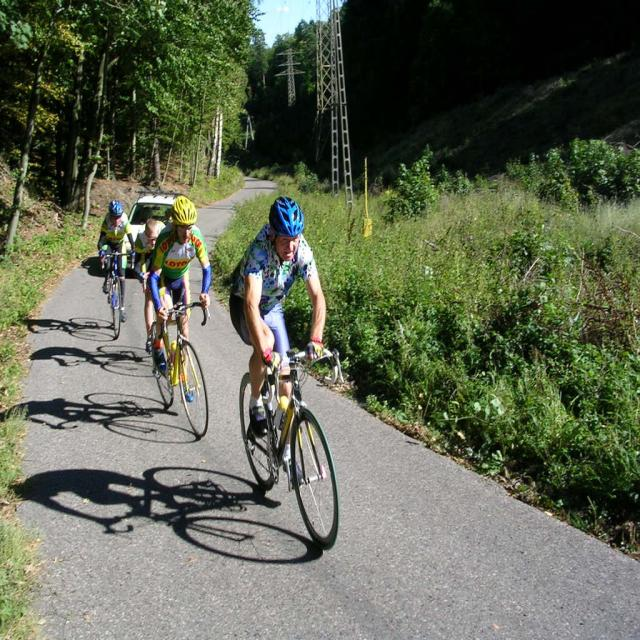helmet: (263, 224, 306, 267), (165, 217, 207, 261), (97, 214, 139, 258)
